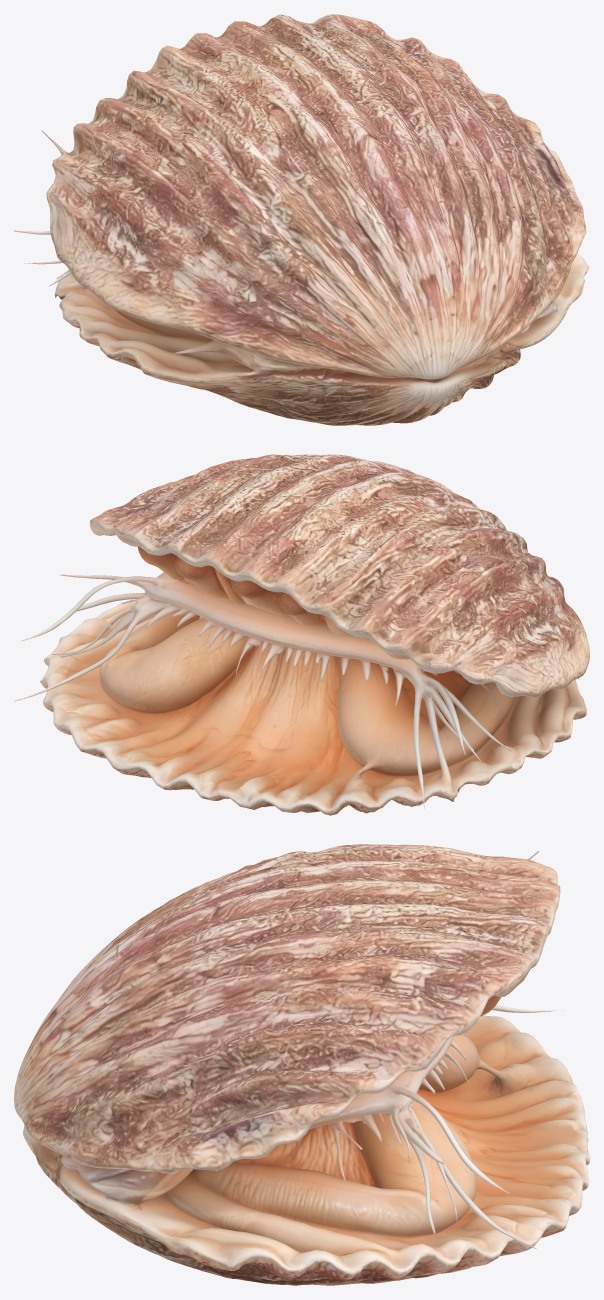
File: bivalve-lod.glb
3 views of the same model, one above another, from view 1: azimuth 30°, elevation 25°; view 2: azimuth 150°, elevation 25°; view 3: azimuth 270°, elevation 25° (orthographic). The views are drawn at different scales.
Visible parts, largest first — view 1: model; view 2: model; view 3: model.
Boxes of the visible parts, left/top/right/bottom form: model: left=14, top=14, right=589, bottom=425; model: left=14, top=454, right=589, bottom=815; model: left=14, top=844, right=589, bottom=1285.
Size of the model in its own units: 1.89 by 1.12 by 1.64.
Materials: 1 (1 with a texture image).
